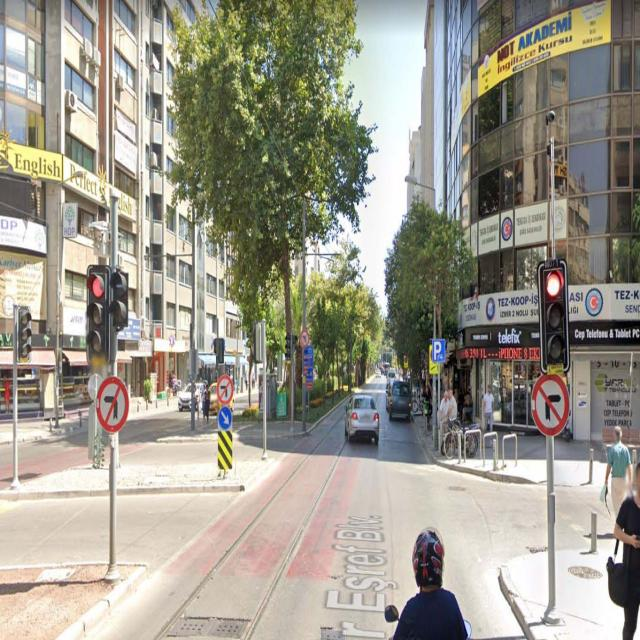kirmizi: (541, 264, 569, 369), (88, 265, 105, 360)
sagadonulmez: (533, 375, 567, 432)
soladonulmez: (96, 378, 129, 432), (218, 376, 233, 401)
